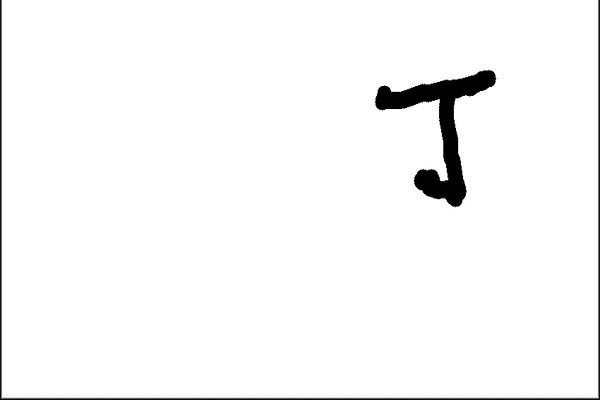J: (372, 63, 504, 213)
